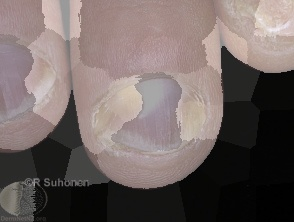Nail_psoriasis: (81, 67, 216, 168), (12, 39, 73, 133), (218, 0, 294, 57)
